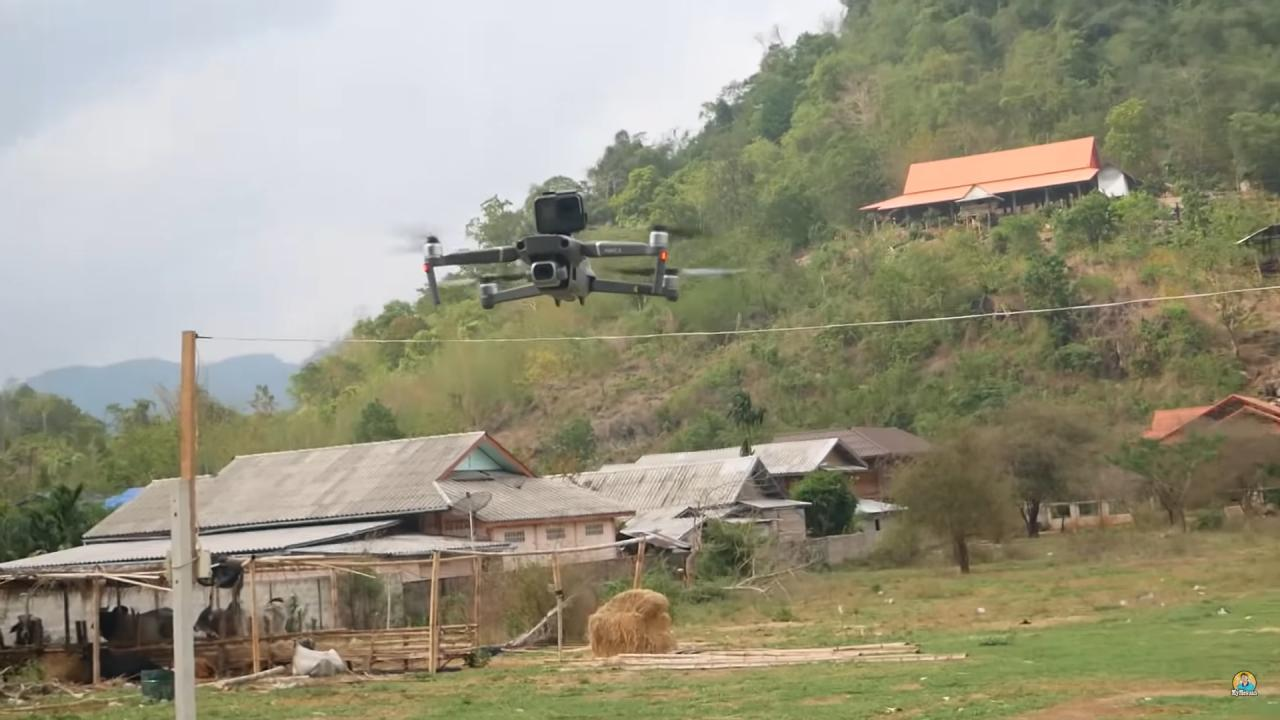Drone: (384, 182, 756, 317)
